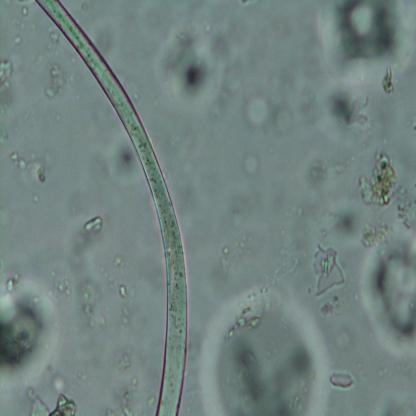Background material: (205, 274, 325, 415), (314, 3, 412, 85), (363, 216, 416, 361), (0, 278, 58, 367), (165, 35, 224, 109), (314, 183, 364, 244), (358, 148, 404, 210), (306, 242, 349, 295), (66, 264, 101, 326), (328, 89, 371, 134), (15, 144, 52, 193), (299, 146, 340, 190), (38, 56, 69, 108), (111, 141, 141, 187), (28, 387, 81, 413), (247, 88, 274, 134), (112, 266, 132, 316), (327, 365, 357, 392), (112, 382, 134, 414), (238, 148, 258, 180), (0, 55, 15, 92), (84, 212, 106, 236), (381, 63, 396, 97), (56, 275, 68, 304), (13, 34, 29, 46), (122, 358, 132, 374)
Microfibre: (34, 2, 189, 416)
